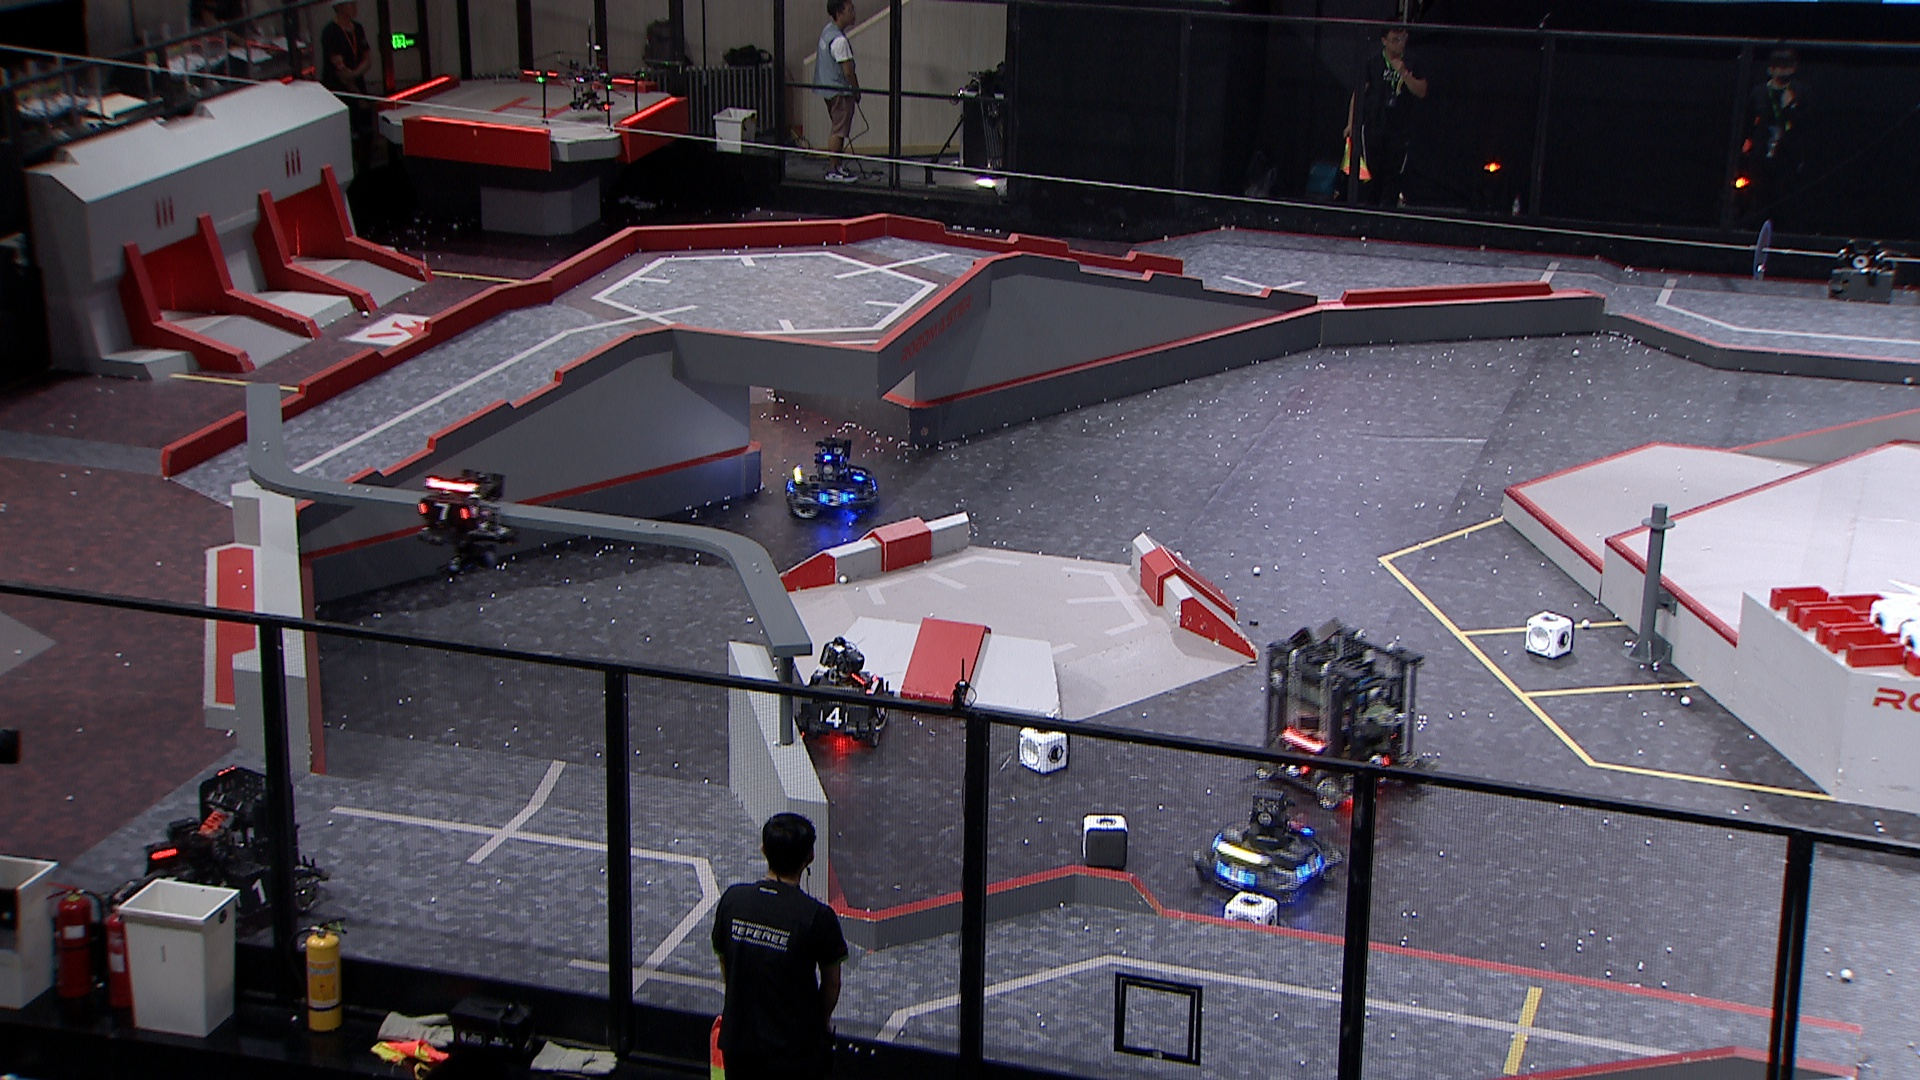armor: (417, 496, 469, 524), (233, 878, 272, 910), (1216, 862, 1255, 891), (1295, 855, 1327, 884), (818, 707, 851, 731), (820, 488, 851, 510), (847, 465, 869, 485), (1284, 761, 1311, 777), (1365, 754, 1393, 767)
car: (103, 764, 332, 945), (1257, 618, 1428, 808), (1192, 793, 1344, 907), (790, 637, 891, 750), (783, 438, 880, 522)
watcher: (414, 467, 514, 578)
